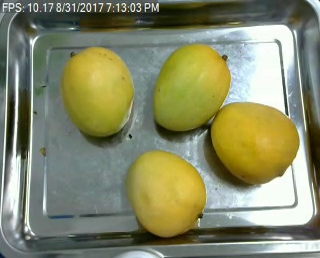Mango: (208, 103, 302, 186), (152, 39, 231, 137), (58, 44, 137, 138), (122, 149, 207, 235)
